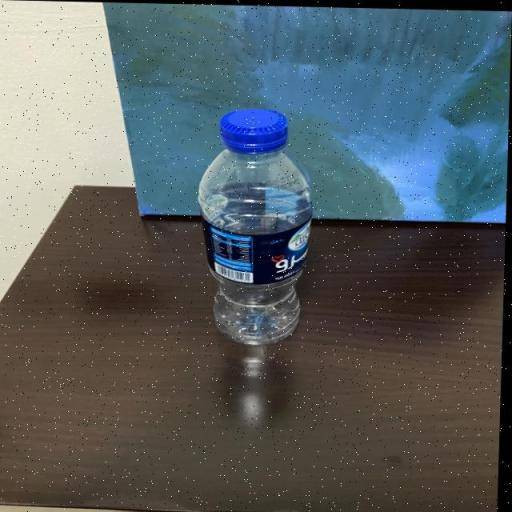plastic: (198, 107, 314, 346)
